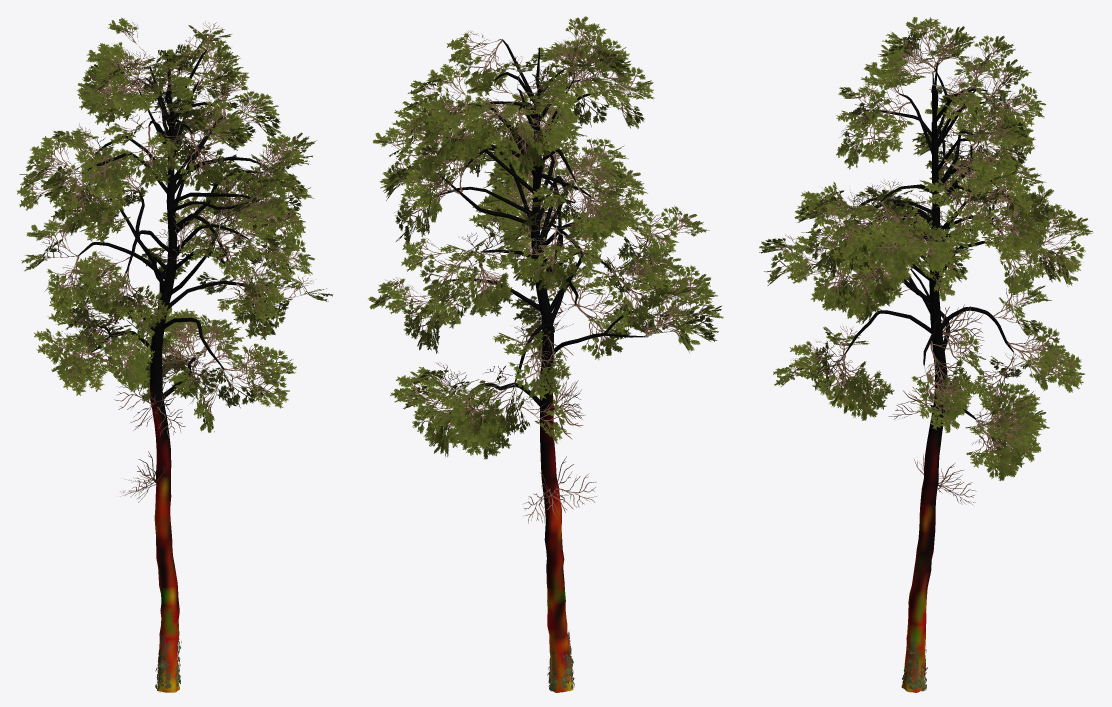
The model's file is SM_Pine_Tall.fbx.
3 views of the same model, side by side, from view 1: azimuth 30°, elevation 25°; view 2: azimuth 150°, elevation 25°; view 3: azimuth 270°, elevation 25° (orthographic). The views are drawn at different scales.
Visible parts, largest first — view 1: SM_Pine_Tall_LOD0; view 2: SM_Pine_Tall_LOD0; view 3: SM_Pine_Tall_LOD0.
Boxes of the visible parts, x1,y1,x2,y2 form: SM_Pine_Tall_LOD0: (17, 17, 333, 692); SM_Pine_Tall_LOD0: (368, 16, 723, 692); SM_Pine_Tall_LOD0: (759, 17, 1093, 692).
Size of the model in its own units: 1134 by 1036 by 2194.
